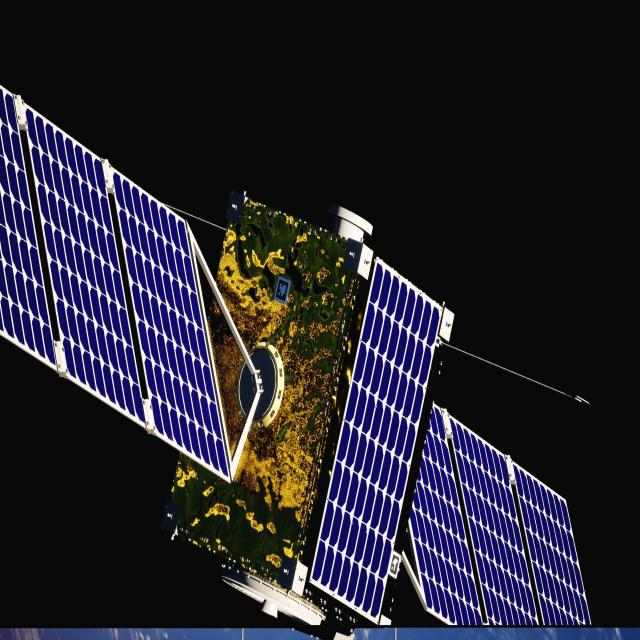satellite: (0, 86, 592, 633)
